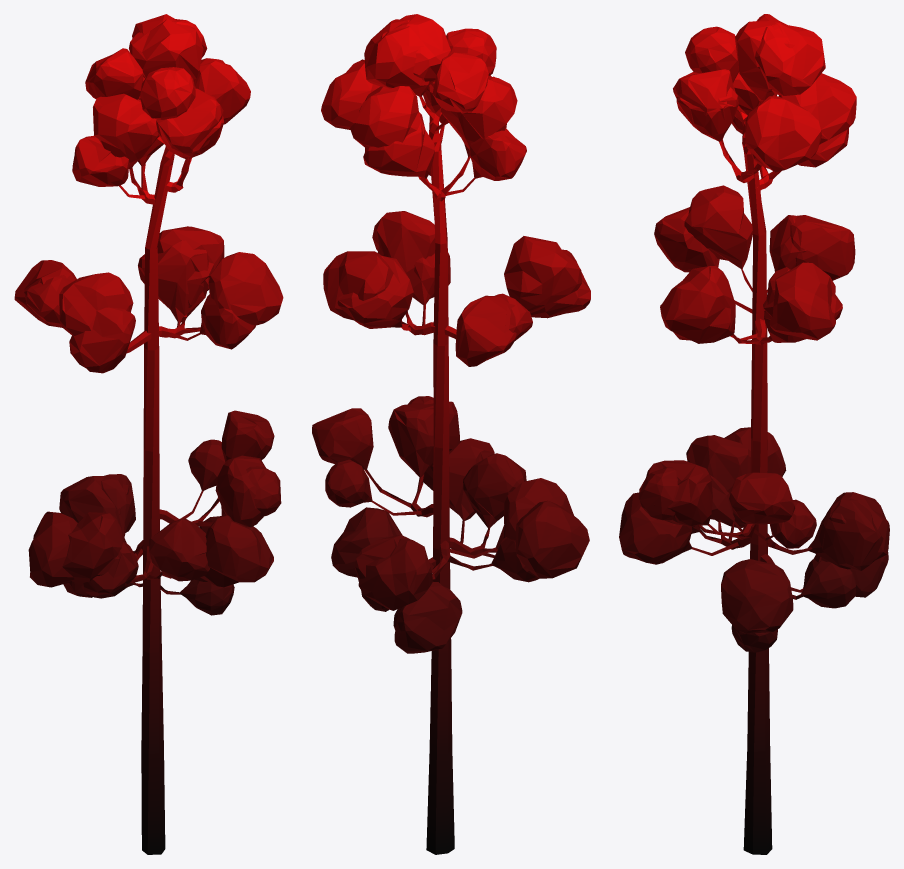
File: TreePine09.fbx
3 views of the same model, side by side, from view 1: azimuth 30°, elevation 25°; view 2: azimuth 150°, elevation 25°; view 3: azimuth 270°, elevation 25° (orthographic). The views are drawn at different scales.
Parts seen in each view (by area): view 1: TreePine09_LOD0; view 2: TreePine09_LOD0; view 3: TreePine09_LOD0.
Boxes of the visible parts, <box> form: TreePine09_LOD0: <box>14,14,283,854</box>; TreePine09_LOD0: <box>312,14,590,854</box>; TreePine09_LOD0: <box>619,14,889,854</box>.
Size of what is drawn, in the model's own units: 586 by 1814 by 532.
